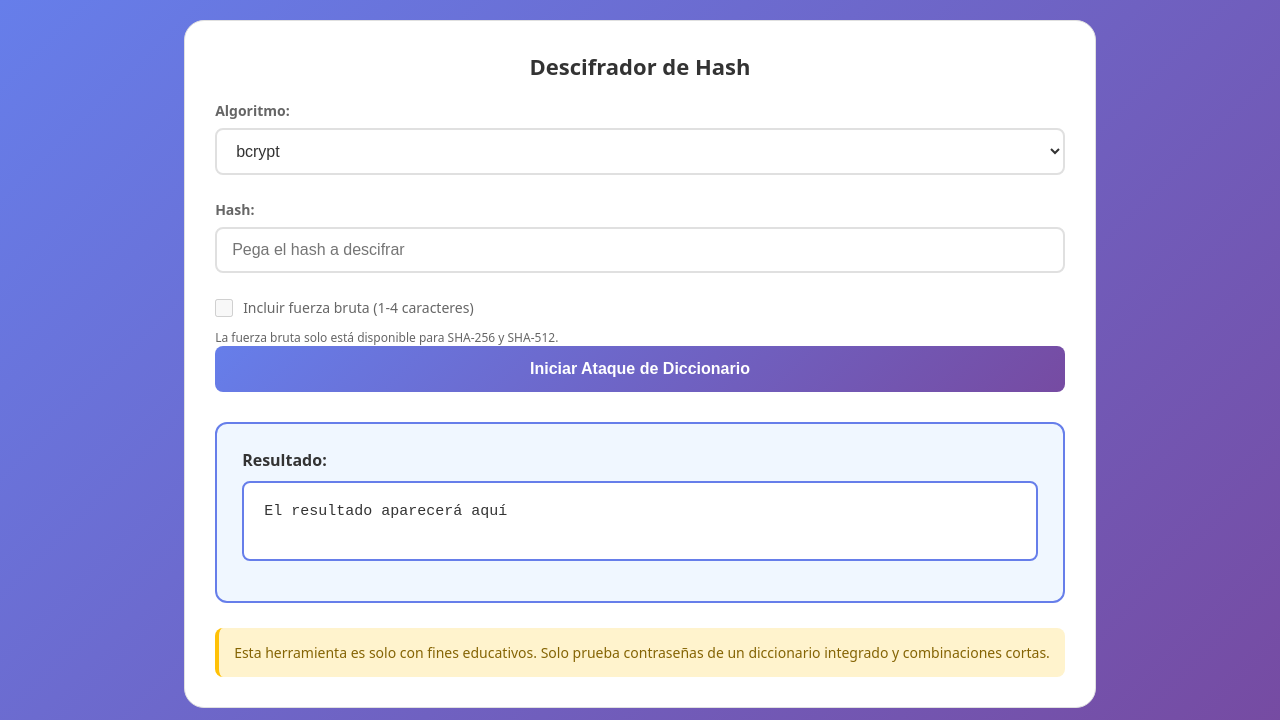
it: HashCracker › muestra la contrasena encontrada cuando hay match
Type "somehash" into the field labelled "Hash:" at (640, 250), box [215,227,1065,273]
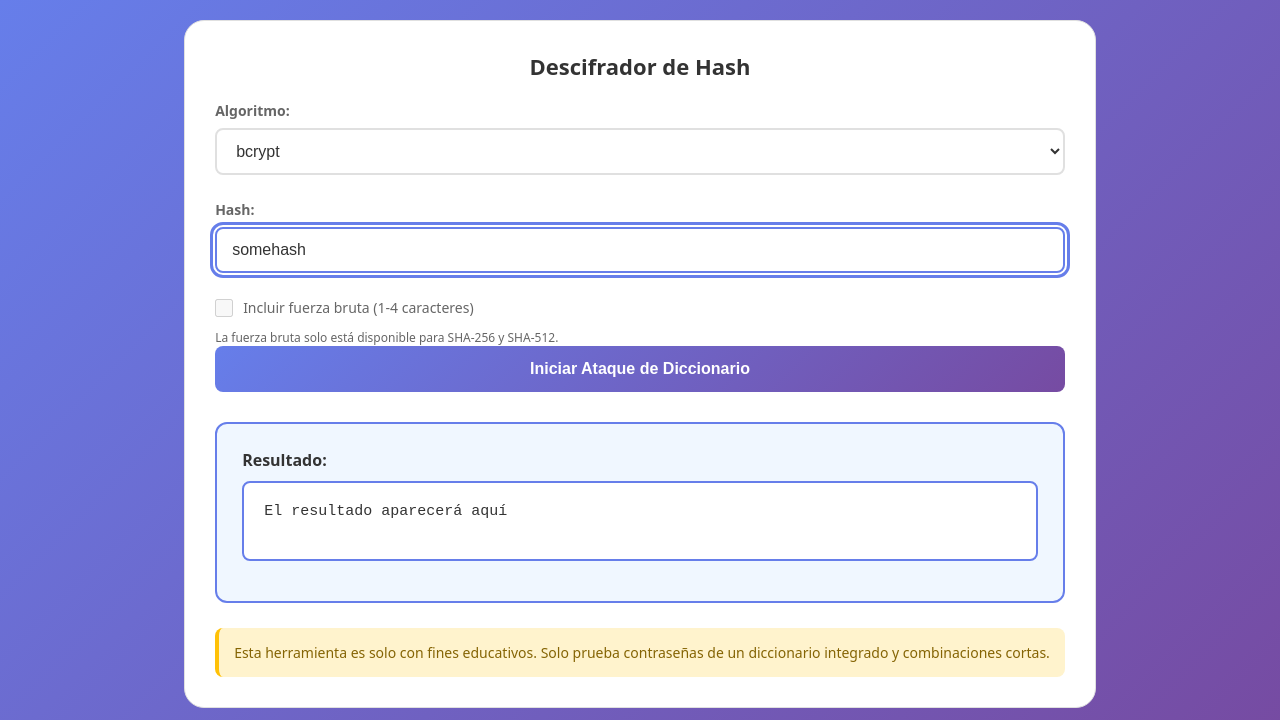
Click the button "Iniciar Ataque de Diccionario" at (640, 369), box [215,346,1065,392]
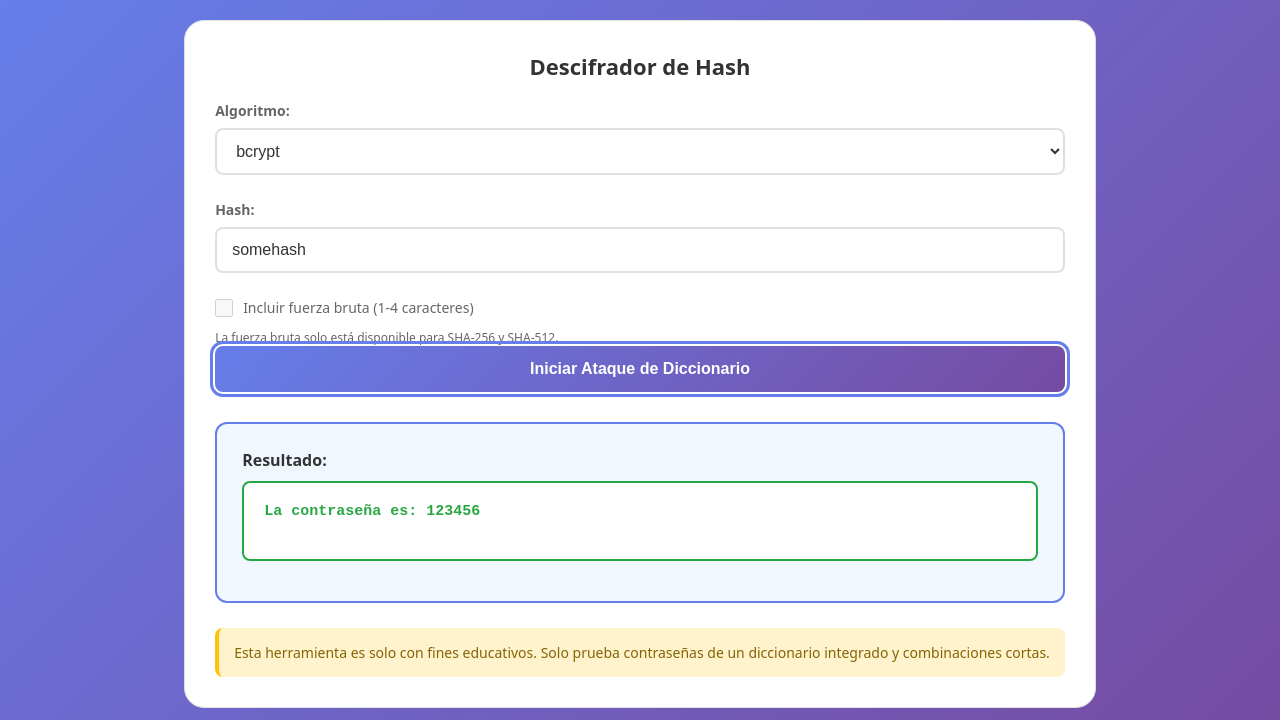
Result: the text "La contraseña es: 123456" is shown at [242,481,1038,561]
